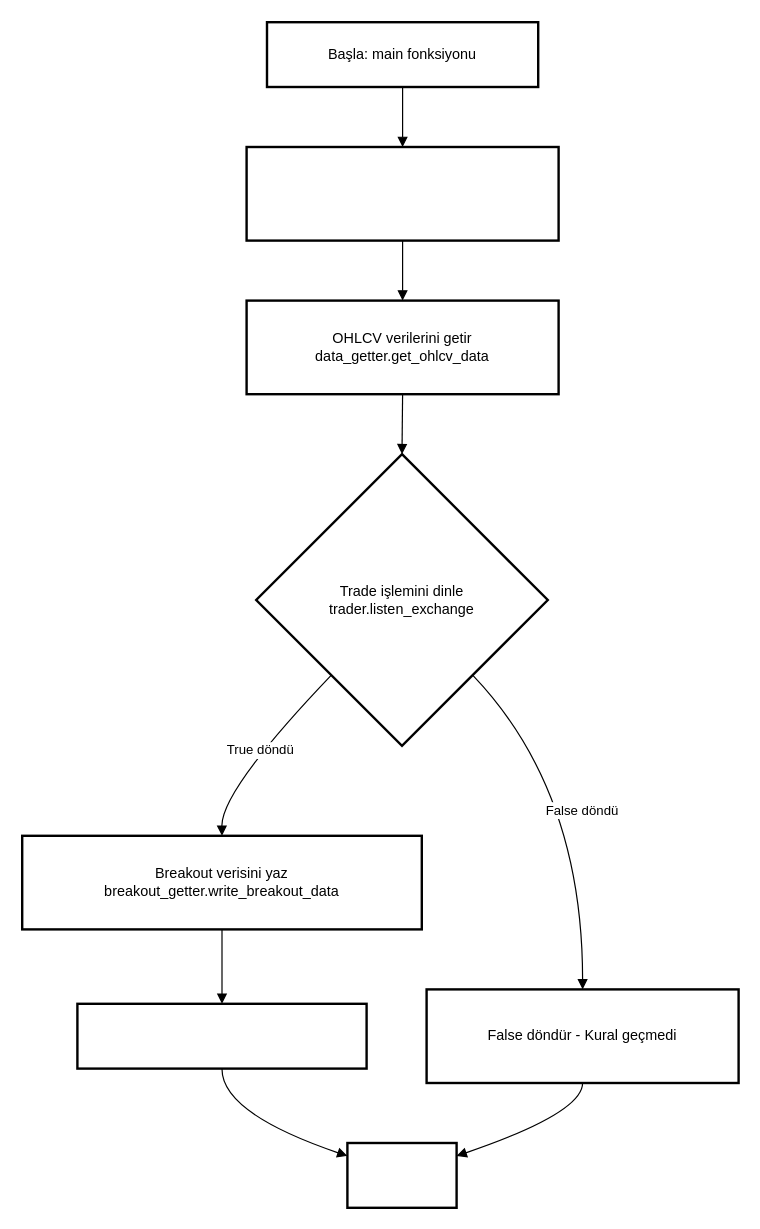
Some shapes in this 760 by 1229 pixel diagram are drawn without their labels. Each missing label, with the box of its shape:
Bitiş: (346, 1141, 457, 1208)
sembol ve anahtar parametreleri al: (245, 145, 559, 241)
True döndür - Kural geçti: (76, 1002, 367, 1069)
